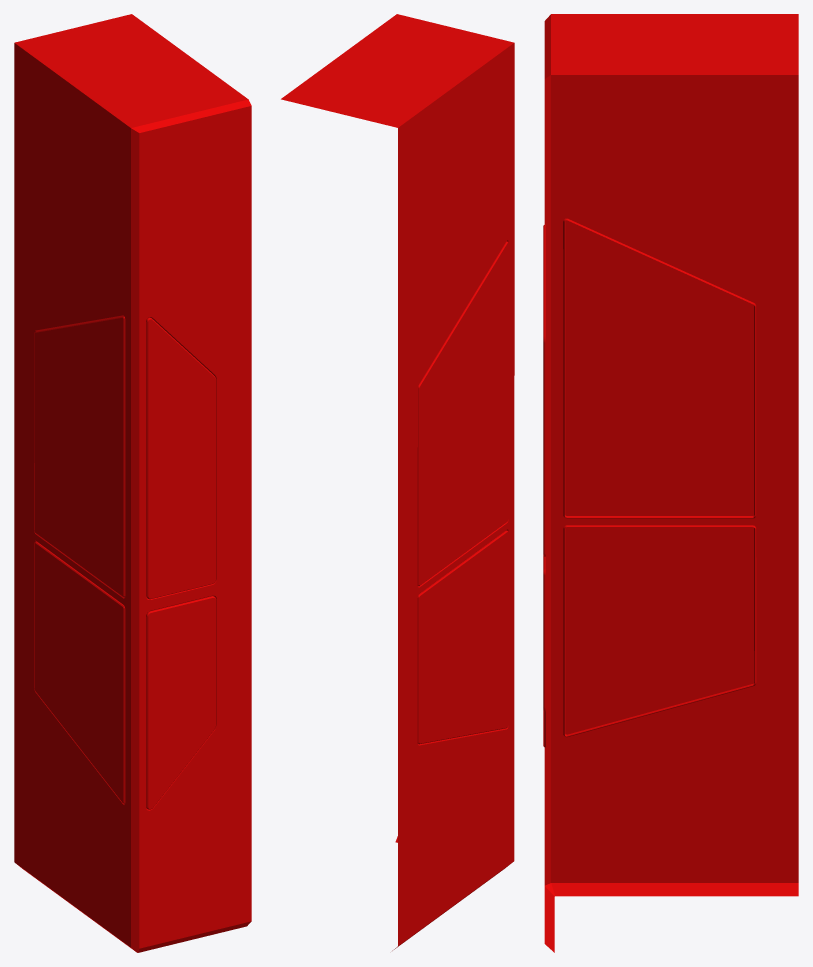
File: Wall_7.fbx
3 renders of one model, left to right at view 1: azimuth 30°, elevation 25°; view 2: azimuth 150°, elevation 25°; view 3: azimuth 270°, elevation 25°, orthographic. The views are drawn at different scales.
Visible parts, largest first — view 1: L17:polySurface1; view 2: L17:polySurface1; view 3: L17:polySurface1.
Boxes of the visible parts, left/top/right/bottom form: L17:polySurface1: left=14, top=14, right=251, bottom=952; L17:polySurface1: left=281, top=14, right=514, bottom=950; L17:polySurface1: left=543, top=14, right=798, bottom=952.
Bounding box in the file's own units: 114 × 765 × 201.
